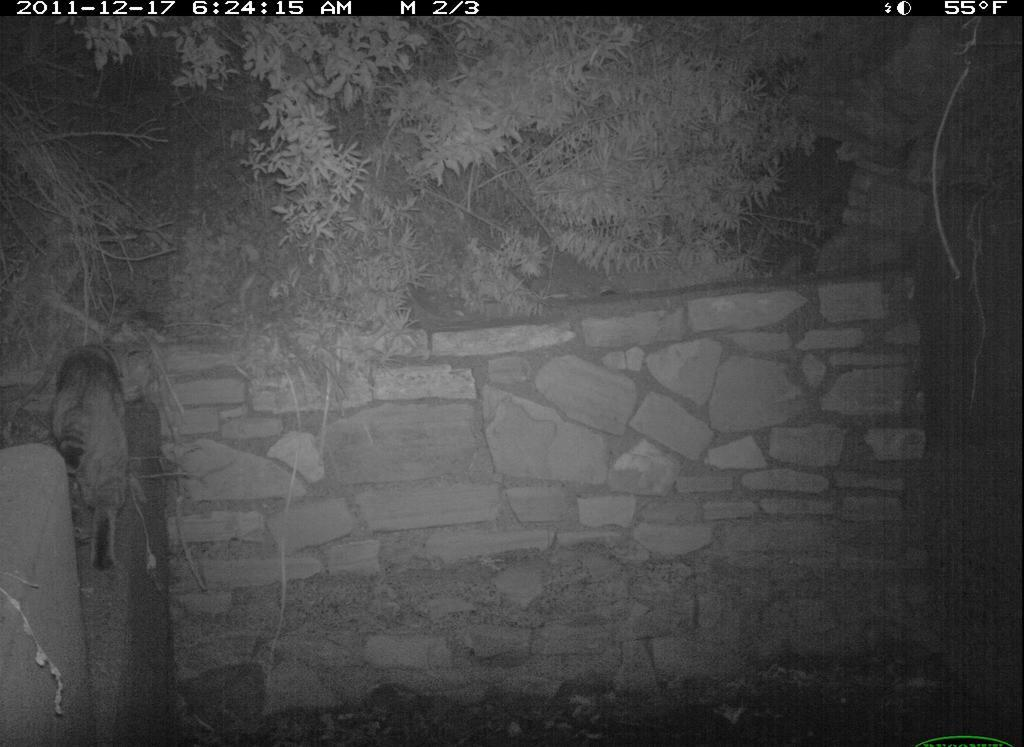bobcat: (43, 331, 150, 583)
